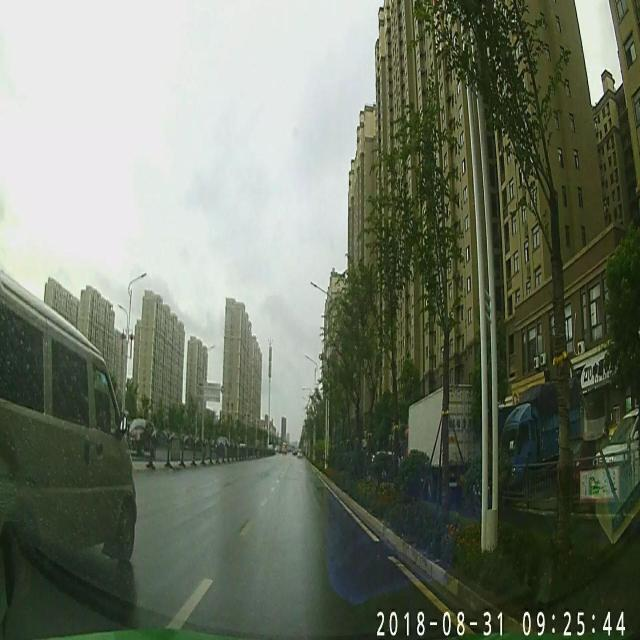car: (0, 268, 135, 598)
